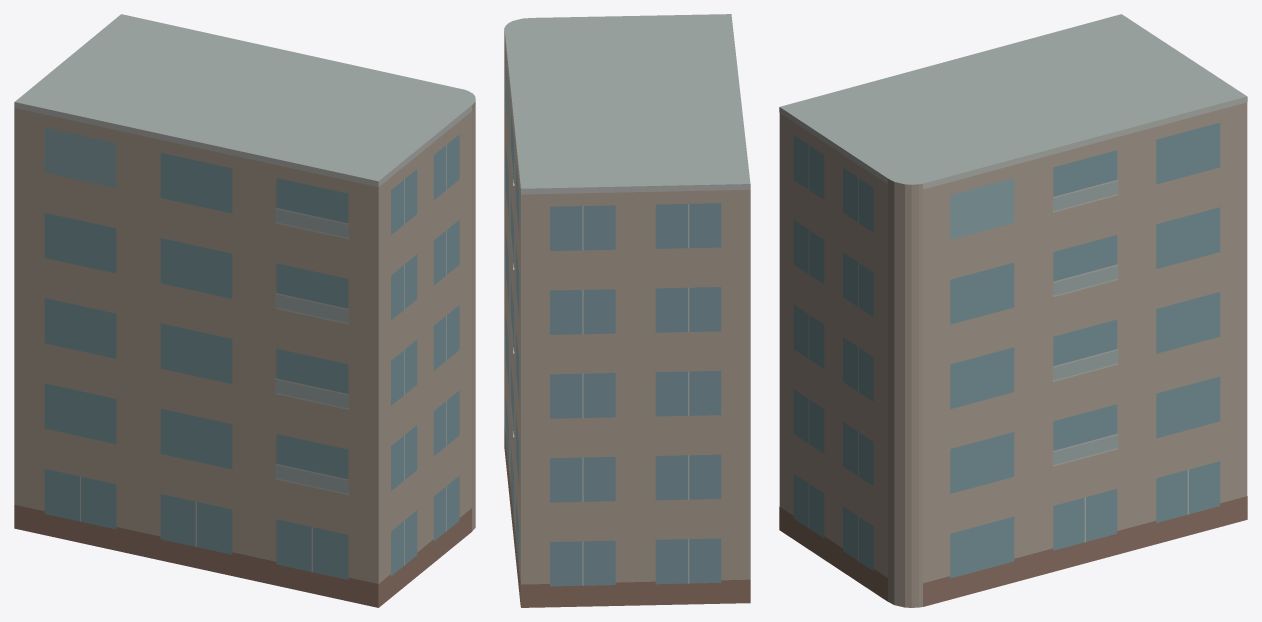
Rendered from survey-upis-32721762.glb.
The picture shows the model from 3 angles, left to right: view 1: azimuth 30°, elevation 25°; view 2: azimuth 150°, elevation 25°; view 3: azimuth 270°, elevation 25°; orthographic projection.
Parts seen in each view (by area): view 1: survey-upis-32721762.tmp; view 2: survey-upis-32721762.tmp; view 3: survey-upis-32721762.tmp.
Part boxes in pixels (x1,y1,x2,y2): survey-upis-32721762.tmp: [14, 14, 475, 607]; survey-upis-32721762.tmp: [504, 14, 750, 607]; survey-upis-32721762.tmp: [779, 14, 1247, 607].
Size of the model in its own units: 15.36 by 17.75 by 17.79.
